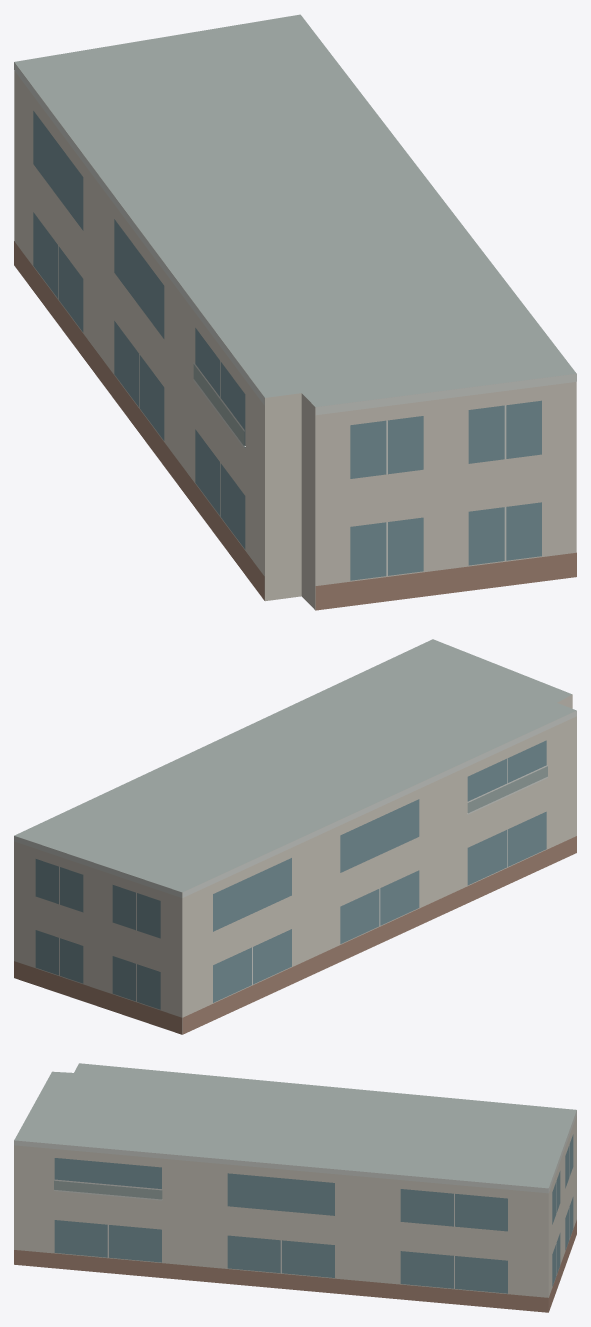
Rendered from survey-upis-32723877.glb.
3 views of the same model, one above another, from view 1: azimuth 30°, elevation 25°; view 2: azimuth 150°, elevation 25°; view 3: azimuth 270°, elevation 25° (orthographic). The views are drawn at different scales.
Parts seen in each view (by area): view 1: survey-upis-32723877.tmp; view 2: survey-upis-32723877.tmp; view 3: survey-upis-32723877.tmp.
Boxes of the visible parts, bbox=[...] form: survey-upis-32723877.tmp: bbox=[14, 14, 576, 610]; survey-upis-32723877.tmp: bbox=[14, 639, 576, 1034]; survey-upis-32723877.tmp: bbox=[14, 1063, 576, 1312].
Bounding box in the file's own units: 13.19 × 6.1 × 25.04.
